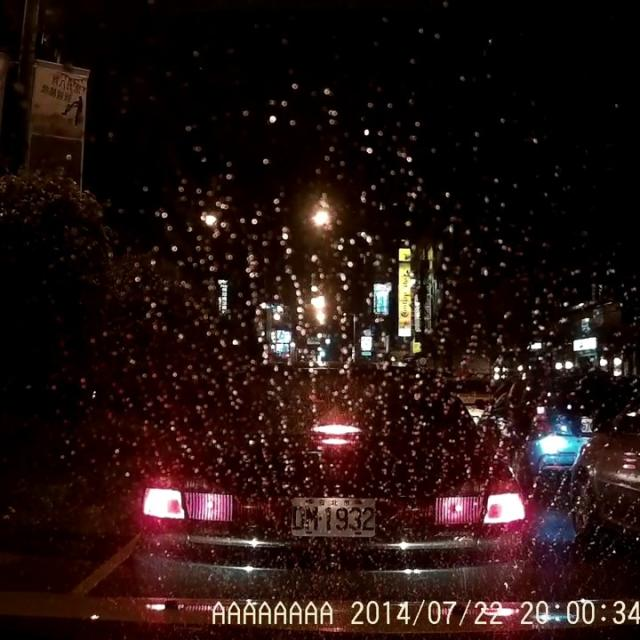Car: (132, 361, 533, 598), (477, 361, 620, 483), (563, 389, 639, 541), (440, 374, 499, 424)
